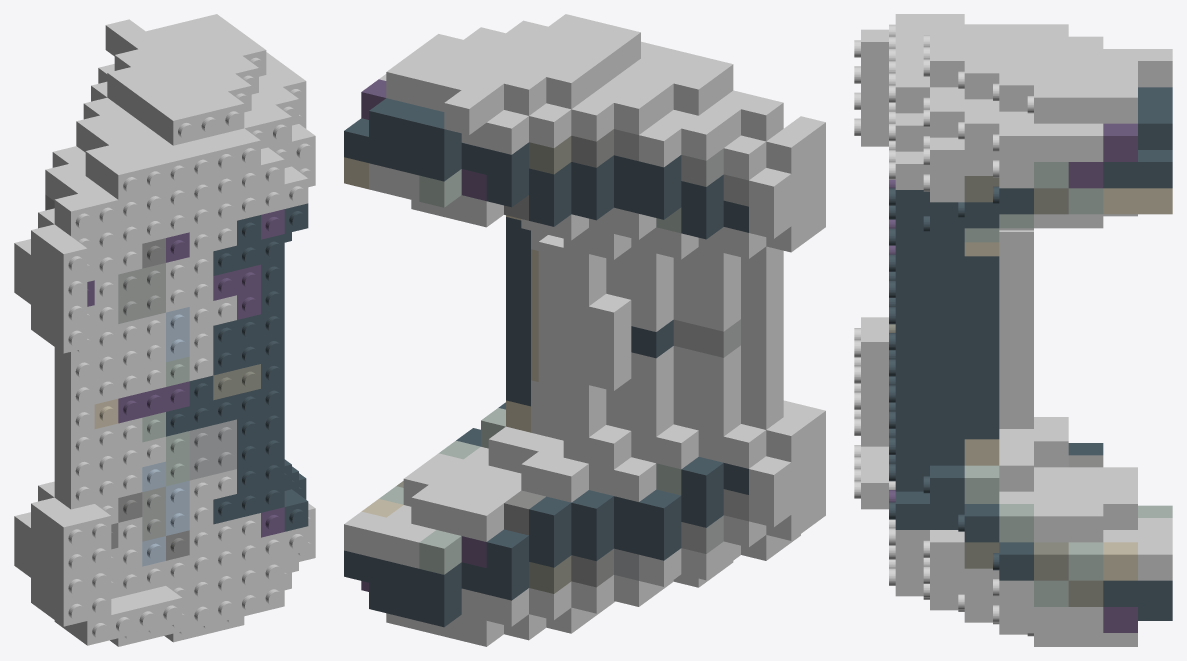
File: full.glb
The picture shows the model from 3 angles, left to right: view 1: azimuth 30°, elevation 25°; view 2: azimuth 150°, elevation 25°; view 3: azimuth 270°, elevation 25°; orthographic projection. The views are drawn at different scales.
Parts seen in each view (by area): view 1: world; view 2: world; view 3: world.
Boxes of the visible parts, x1,y1,x2,y2 form: world: [14, 14, 315, 646]; world: [344, 14, 825, 646]; world: [854, 14, 1172, 646].
Size of the model in its own units: 104 by 168 by 88.2.
